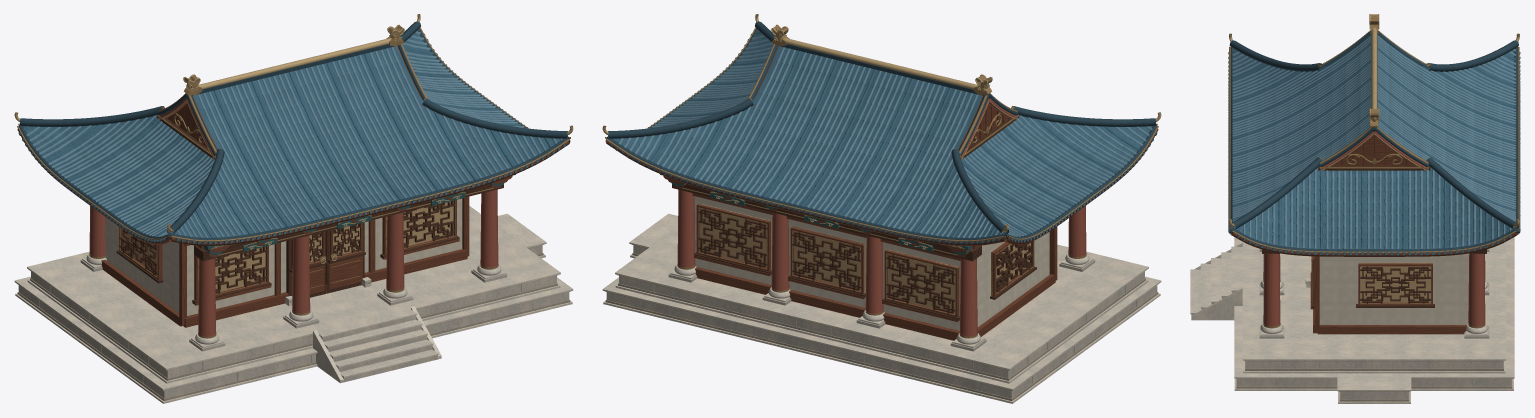
3 renders of one model, left to right at view 1: azimuth 30°, elevation 25°; view 2: azimuth 150°, elevation 25°; view 3: azimuth 270°, elevation 25°, orthographic. The views are drawn at different scales.
Visible parts, largest first — view 1: SingleGlazedRoof_glaze, SingleGlazedRoof_tileRound, TwoCourseTerrace_stonePale, TwoCourseTerrace_stone, ThreeBayHall_heartwood, SingleGlazedRoof_shadowTile, ThreeBayHall_lacquer, ThreeBayHall_walnut, ThreeBayHall_lime, TwoCourseTerrace_carving, ThreeBayHall_silk, SingleGlazedRoof_bronze (+11 smaller); view 2: SingleGlazedRoof_glaze, SingleGlazedRoof_tileRound, TwoCourseTerrace_stonePale, TwoCourseTerrace_stone, ThreeBayHall_heartwood, ThreeBayHall_walnut, SingleGlazedRoof_shadowTile, ThreeBayHall_lime, ThreeBayHall_lacquer, ThreeBayHall_silk, TwoCourseTerrace_carving, SingleGlazedRoof_bronze (+11 smaller); view 3: SingleGlazedRoof_tileRound, SingleGlazedRoof_glaze, TwoCourseTerrace_stonePale, ThreeBayHall_lime, SingleGlazedRoof_shadowTile, TwoCourseTerrace_stone, ThreeBayHall_heartwood, ThreeBayHall_lacquer, TwoCourseTerrace_carving, ThreeBayHall_walnut, EastCorridorLanding_stonePale, ThreeBayHall_silk (+14 smaller).
Part boxes in pixels (left/top/right/bottom): SingleGlazedRoof_glaze: left=23, top=30, right=559, bottom=237; SingleGlazedRoof_tileRound: left=18, top=31, right=565, bottom=244; TwoCourseTerrace_stonePale: left=14, top=206, right=573, bottom=403; TwoCourseTerrace_stone: left=18, top=271, right=569, bottom=398; ThreeBayHall_heartwood: left=101, top=196, right=469, bottom=327; SingleGlazedRoof_shadowTile: left=18, top=21, right=569, bottom=244; ThreeBayHall_lacquer: left=89, top=189, right=498, bottom=336; ThreeBayHall_walnut: left=116, top=201, right=459, bottom=303; ThreeBayHall_lime: left=105, top=198, right=462, bottom=315; TwoCourseTerrace_carving: left=17, top=275, right=570, bottom=400; ThreeBayHall_silk: left=122, top=201, right=453, bottom=299; SingleGlazedRoof_bronze: left=17, top=27, right=570, bottom=243; SingleGlazedRoof_glaze: left=613, top=30, right=1152, bottom=237; SingleGlazedRoof_tileRound: left=610, top=35, right=1157, bottom=244; TwoCourseTerrace_stonePale: left=602, top=227, right=1161, bottom=403; TwoCourseTerrace_stone: left=606, top=271, right=1157, bottom=398; ThreeBayHall_heartwood: left=692, top=193, right=1057, bottom=340; ThreeBayHall_walnut: left=694, top=208, right=1036, bottom=320; SingleGlazedRoof_shadowTile: left=606, top=21, right=1157, bottom=244; ThreeBayHall_lime: left=694, top=196, right=1049, bottom=330; ThreeBayHall_lacquer: left=677, top=189, right=1086, bottom=336; ThreeBayHall_silk: left=699, top=204, right=1030, bottom=313; TwoCourseTerrace_carving: left=605, top=275, right=1158, bottom=400; SingleGlazedRoof_bronze: left=605, top=27, right=1158, bottom=243; SingleGlazedRoof_tileRound: left=1228, top=35, right=1520, bottom=255; SingleGlazedRoof_glaze: left=1232, top=35, right=1515, bottom=249; TwoCourseTerrace_stonePale: left=1190, top=237, right=1514, bottom=390; ThreeBayHall_lime: left=1319, top=253, right=1469, bottom=324; SingleGlazedRoof_shadowTile: left=1228, top=33, right=1520, bottom=255; TwoCourseTerrace_stone: left=1191, top=291, right=1511, bottom=386; ThreeBayHall_heartwood: left=1310, top=256, right=1466, bottom=334; ThreeBayHall_lacquer: left=1263, top=253, right=1485, bottom=326; TwoCourseTerrace_carving: left=1236, top=360, right=1512, bottom=388; ThreeBayHall_walnut: left=1311, top=256, right=1434, bottom=308; EastCorridorLanding_stonePale: left=1337, top=373, right=1411, bottom=403; ThreeBayHall_silk: left=1358, top=263, right=1432, bottom=302.
Bounding box in the file's own units: 16.77 × 9.05 × 11.6.
Materials: 14 (14 with a texture image).
